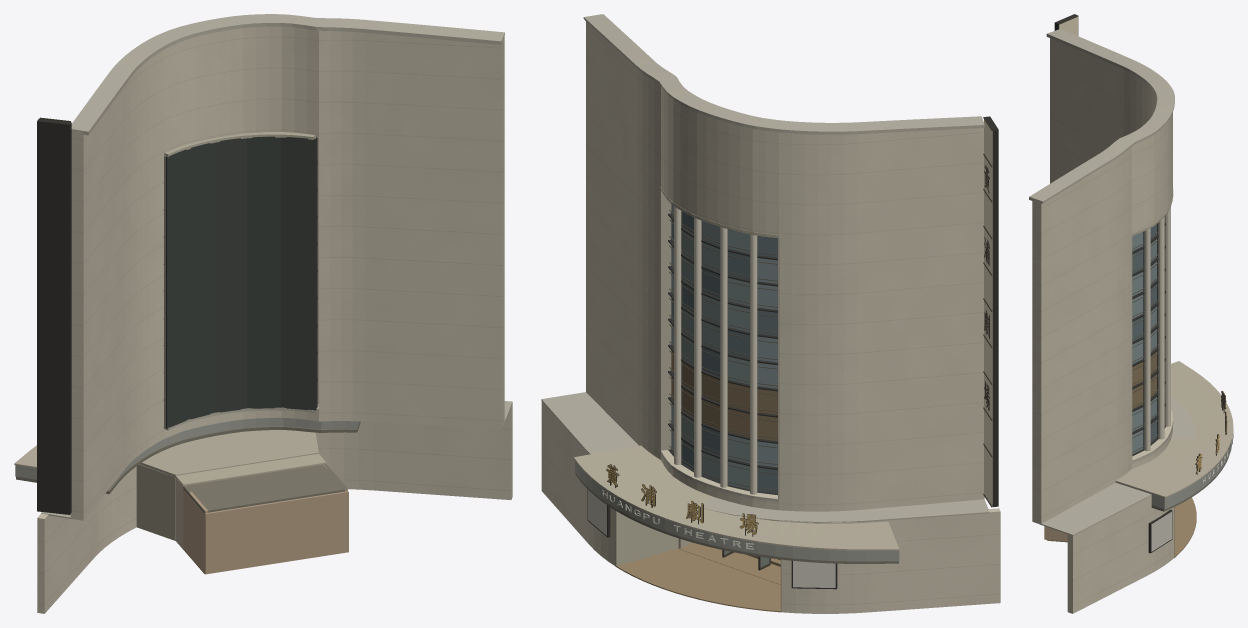
The model's file is huangpu-golden-city-theatre-corner-lod.glb.
3 views of the same model, side by side, from view 1: azimuth 30°, elevation 25°; view 2: azimuth 150°, elevation 25°; view 3: azimuth 270°, elevation 25° (orthographic). The views are drawn at different scales.
Parts seen in each view (by area): view 1: 黄浦剧场北京东路圆角入口与通高玻璃窗; view 2: 黄浦剧场北京东路圆角入口与通高玻璃窗; view 3: 黄浦剧场北京东路圆角入口与通高玻璃窗.
Part boxes in pixels (x1,y1,x2,y2): 黄浦剧场北京东路圆角入口与通高玻璃窗: (14, 14, 512, 613); 黄浦剧场北京东路圆角入口与通高玻璃窗: (541, 14, 1000, 613); 黄浦剧场北京东路圆角入口与通高玻璃窗: (1029, 14, 1233, 613).
Bounding box in the file's own units: 19.47 × 19.23 × 8.74.
23 materials, 1 textured.
